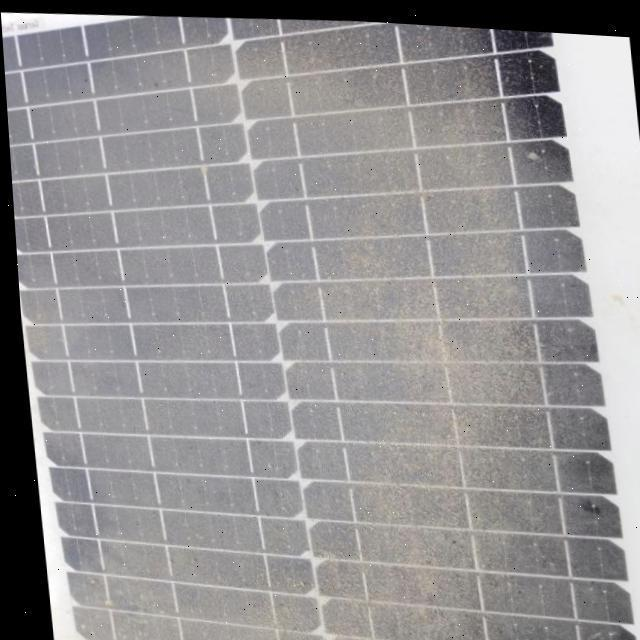Surface Contaminant: (3, 37, 624, 640)
